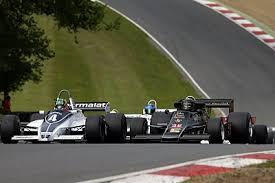f1_car: (1, 82, 130, 150), (132, 91, 256, 147)
